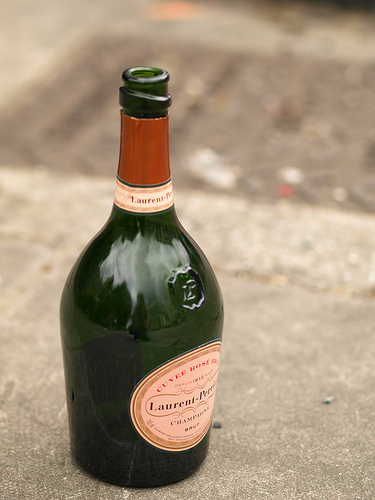litter: (57, 66, 225, 489)
